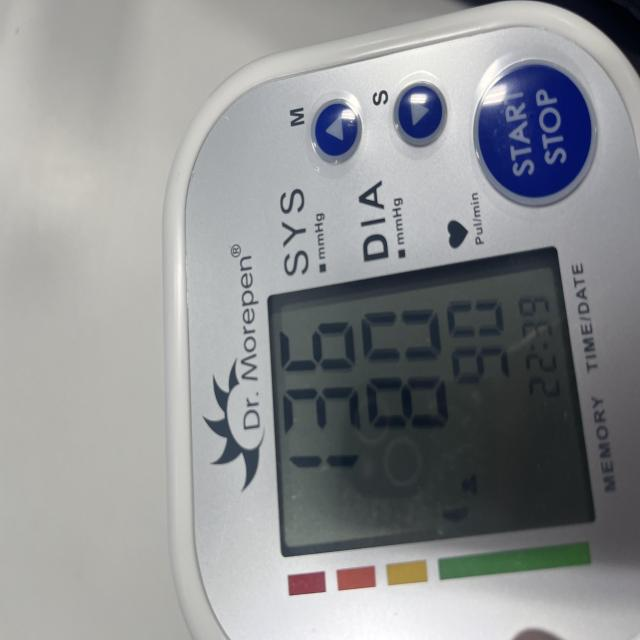bp: (162, 1, 640, 640)
